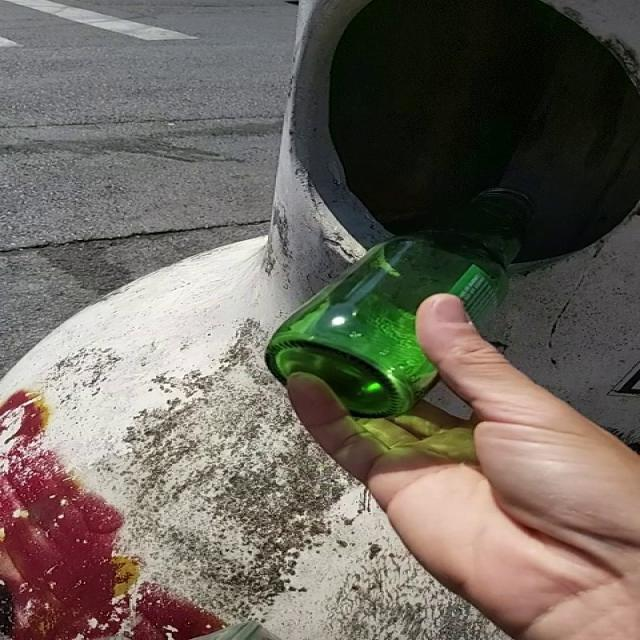glass: (267, 188, 535, 417)
